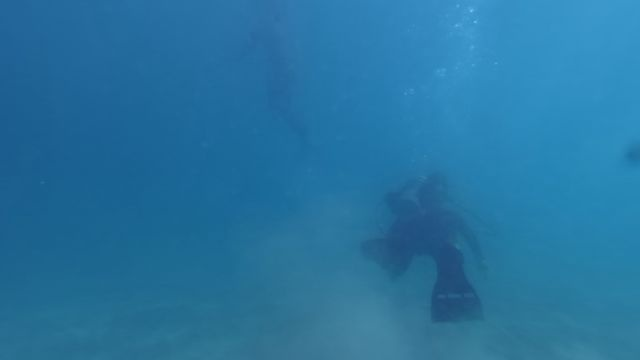Diver: (356, 152, 524, 343)
